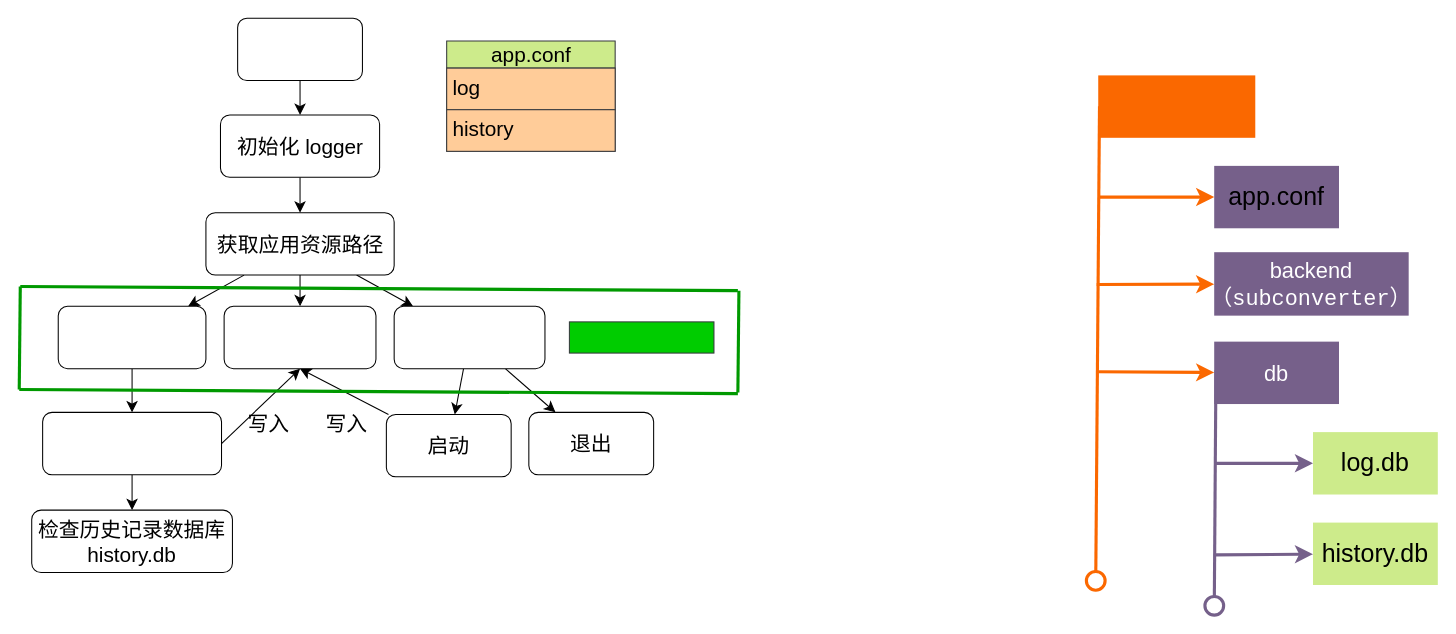
The diagram is 1456 pixels wide and 634 high, and some of its shapes have lost their labels. Each missing label, with the centre of its shape:
"Thread pool" belongs at [641,337].
"打开 App" belongs at [299,49].
"检查 app.conf" belongs at [299,337].
"检查 backend" belongs at [469,337].
"检查db文件夹" belongs at [131,337].
"检查日志数据库 log.db" belongs at [132,443].
"资源文件分布" belongs at [1176,106].
